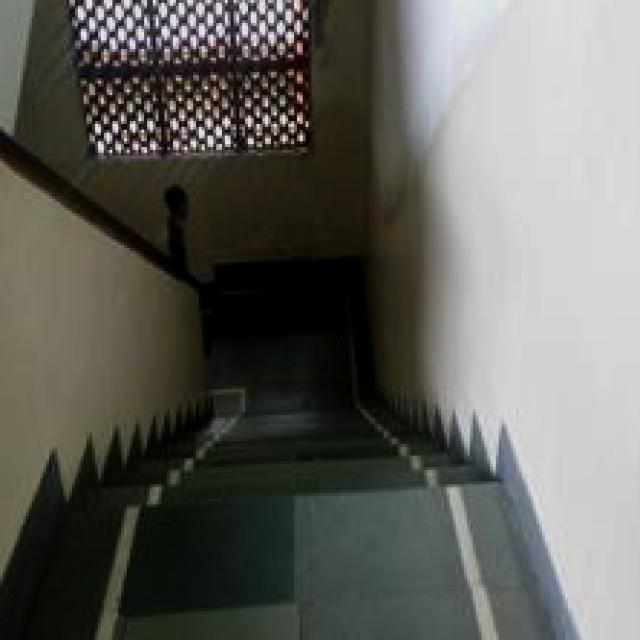downstair: (90, 385, 497, 558)
